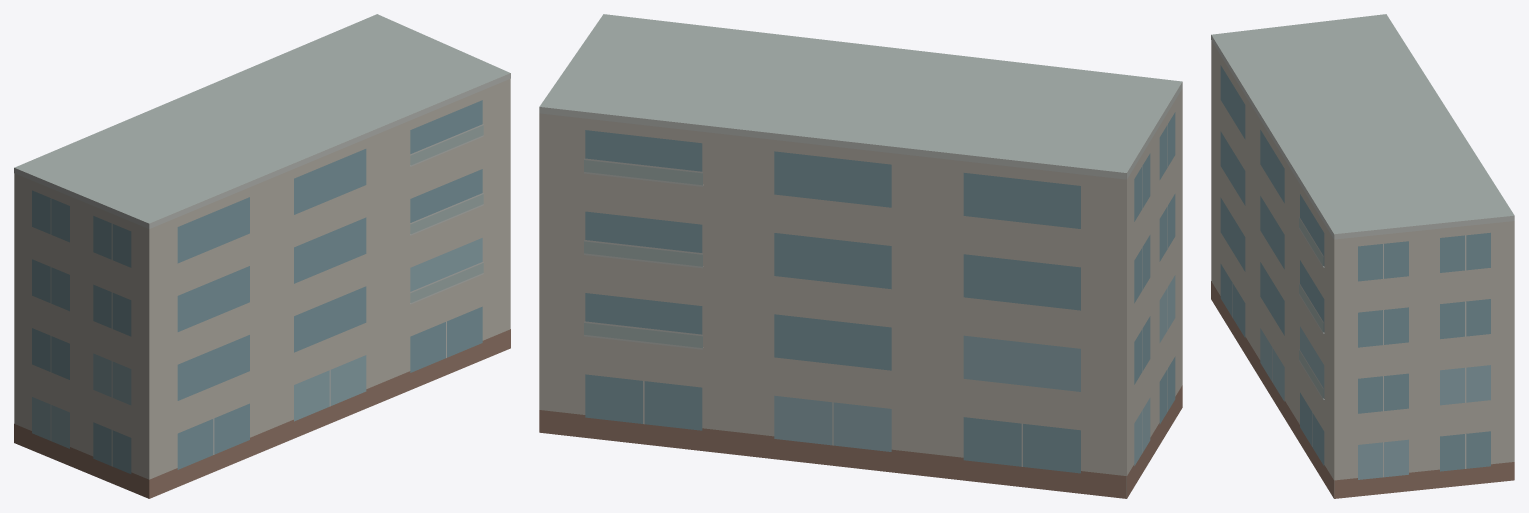
File: survey-upis-32717051.glb
3 renders of one model, left to right at view 1: azimuth 30°, elevation 25°; view 2: azimuth 150°, elevation 25°; view 3: azimuth 270°, elevation 25°, orthographic. The views are drawn at different scales.
Visible parts, largest first — view 1: survey-upis-32717051.tmp; view 2: survey-upis-32717051.tmp; view 3: survey-upis-32717051.tmp.
Boxes of the visible parts, x1,y1,x2,y2 form: survey-upis-32717051.tmp: [14, 14, 510, 498]; survey-upis-32717051.tmp: [539, 14, 1182, 498]; survey-upis-32717051.tmp: [1211, 14, 1514, 498].
Size of the model in its own units: 21.78 by 12.2 by 12.69.
